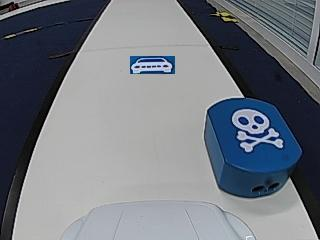danger: (234, 110, 282, 153)
